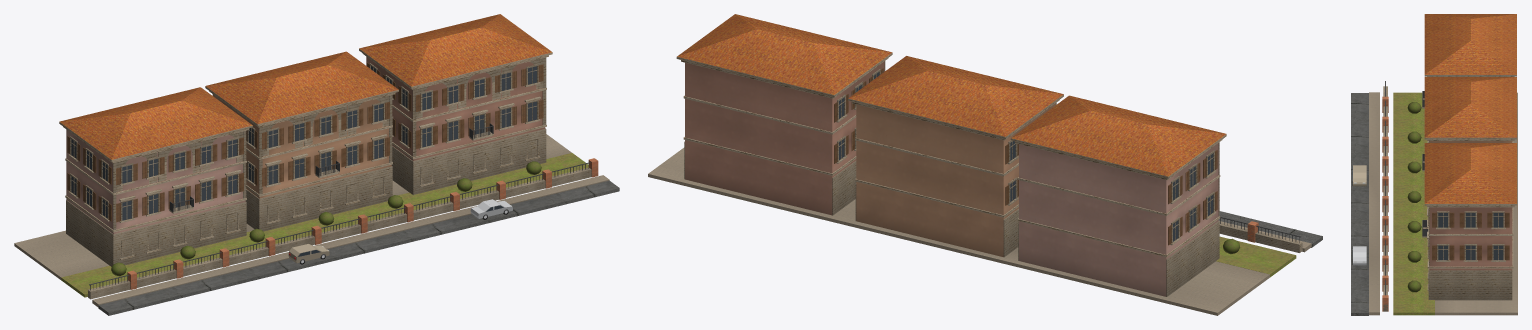
Rendered from melfiStreet.gltf.
The picture shows the model from 3 angles, left to right: view 1: azimuth 30°, elevation 25°; view 2: azimuth 150°, elevation 25°; view 3: azimuth 270°, elevation 25°; orthographic projection. The views are drawn at different scales.
Visible parts, largest first — view 1: melfiStreet-roof-tiles, melfiStreet-travertine-trim, melfiStreet-rustication, melfiStreet-plaster, melfiStreet-shutters, melfiStreet-lawn, melfiStreet-asphalt, melfiStreet-pavement, melfiStreet-window-glass, melfiStreet-low-wall, melfiStreet-wrought-iron, melfiStreet-post-brick (+2 smaller); view 2: melfiStreet-plaster, melfiStreet-roof-tiles, melfiStreet-travertine-trim, melfiStreet-pavement, melfiStreet-rustication, melfiStreet-lawn, melfiStreet-shutters, melfiStreet-window-glass, melfiStreet-asphalt, melfiStreet-low-wall; view 3: melfiStreet-roof-tiles, melfiStreet-lawn, melfiStreet-pavement, melfiStreet-asphalt, melfiStreet-plaster, melfiStreet-rustication, melfiStreet-travertine-trim, melfiStreet-shutters, melfiStreet-box-leaves, melfiStreet-post-brick, melfiStreet-window-glass, melfiStreet-car-paint (+2 smaller).
Boxes of the visible parts, left/top/right/bottom form: melfiStreet-roof-tiles: left=59, top=14, right=552, bottom=159; melfiStreet-travertine-trim: left=59, top=49, right=552, bottom=259; melfiStreet-rustication: left=66, top=128, right=546, bottom=266; melfiStreet-plaster: left=66, top=57, right=545, bottom=234; melfiStreet-shutters: left=67, top=62, right=543, bottom=222; melfiStreet-lawn: left=61, top=153, right=588, bottom=297; melfiStreet-asphalt: left=98, top=180, right=619, bottom=315; melfiStreet-pavement: left=14, top=134, right=609, bottom=307; melfiStreet-window-glass: left=71, top=66, right=536, bottom=220; melfiStreet-low-wall: left=88, top=167, right=591, bottom=299; melfiStreet-wrought-iron: left=89, top=123, right=590, bottom=290; melfiStreet-post-brick: left=127, top=158, right=598, bottom=289; melfiStreet-plaster: left=685, top=61, right=1218, bottom=296; melfiStreet-roof-tiles: left=677, top=14, right=1226, bottom=176; melfiStreet-travertine-trim: left=676, top=53, right=1226, bottom=257; melfiStreet-pavement: left=648, top=147, right=1311, bottom=315; melfiStreet-rustication: left=684, top=141, right=1219, bottom=296; melfiStreet-lawn: left=1216, top=236, right=1296, bottom=277; melfiStreet-shutters: left=834, top=68, right=1217, bottom=245; melfiStreet-window-glass: left=839, top=72, right=1213, bottom=241; melfiStreet-asphalt: left=1218, top=211, right=1322, bottom=247; melfiStreet-low-wall: left=1219, top=222, right=1302, bottom=252; melfiStreet-roof-tiles: left=1424, top=14, right=1516, bottom=203; melfiStreet-lawn: left=1393, top=92, right=1434, bottom=315; melfiStreet-pavement: left=1369, top=92, right=1517, bottom=315; melfiStreet-asphalt: left=1351, top=93, right=1368, bottom=315; melfiStreet-plaster: left=1429, top=141, right=1512, bottom=270; melfiStreet-rustication: left=1428, top=269, right=1512, bottom=300; melfiStreet-travertine-trim: left=1422, top=75, right=1516, bottom=291; melfiStreet-shutters: left=1428, top=210, right=1509, bottom=260; melfiStreet-box-leaves: left=1407, top=102, right=1421, bottom=292; melfiStreet-post-brick: left=1382, top=96, right=1388, bottom=311; melfiStreet-window-glass: left=1438, top=213, right=1503, bottom=260; melfiStreet-car-paint: left=1352, top=165, right=1366, bottom=265.
Bounding box in the file's own units: 66.5 × 16.31 × 21.3.
19 materials, 11 textured.
